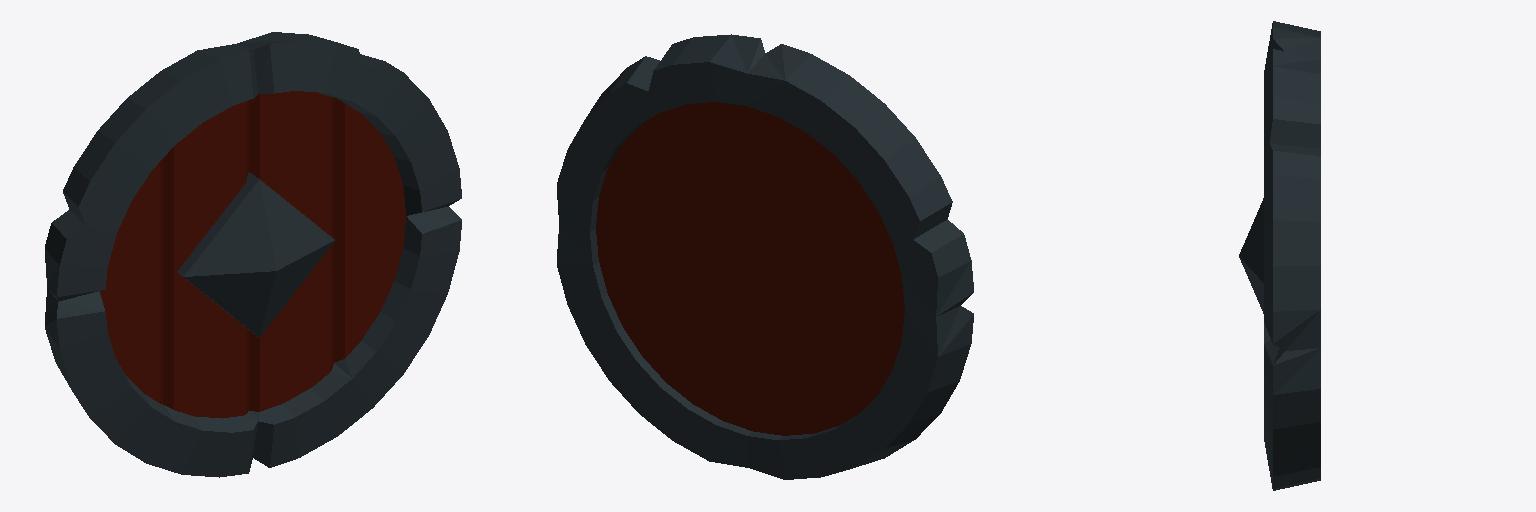
File: shield.obj
3 views of the same model, side by side, from view 1: azimuth 30°, elevation 25°; view 2: azimuth 150°, elevation 25°; view 3: azimuth 270°, elevation 25° (orthographic).
Parts seen in each view (by area): view 1: shield_Cylinder.620; view 2: shield_Cylinder.620; view 3: shield_Cylinder.620.
Boxes of the visible parts, x1=… form: shield_Cylinder.620: x1=45, y1=32, x2=461, y2=477; shield_Cylinder.620: x1=557, y1=34, x2=973, y2=479; shield_Cylinder.620: x1=1239, y1=21, x2=1320, y2=490.
Bounding box in the file's own units: 0.6403 × 0.6403 × 0.1129.